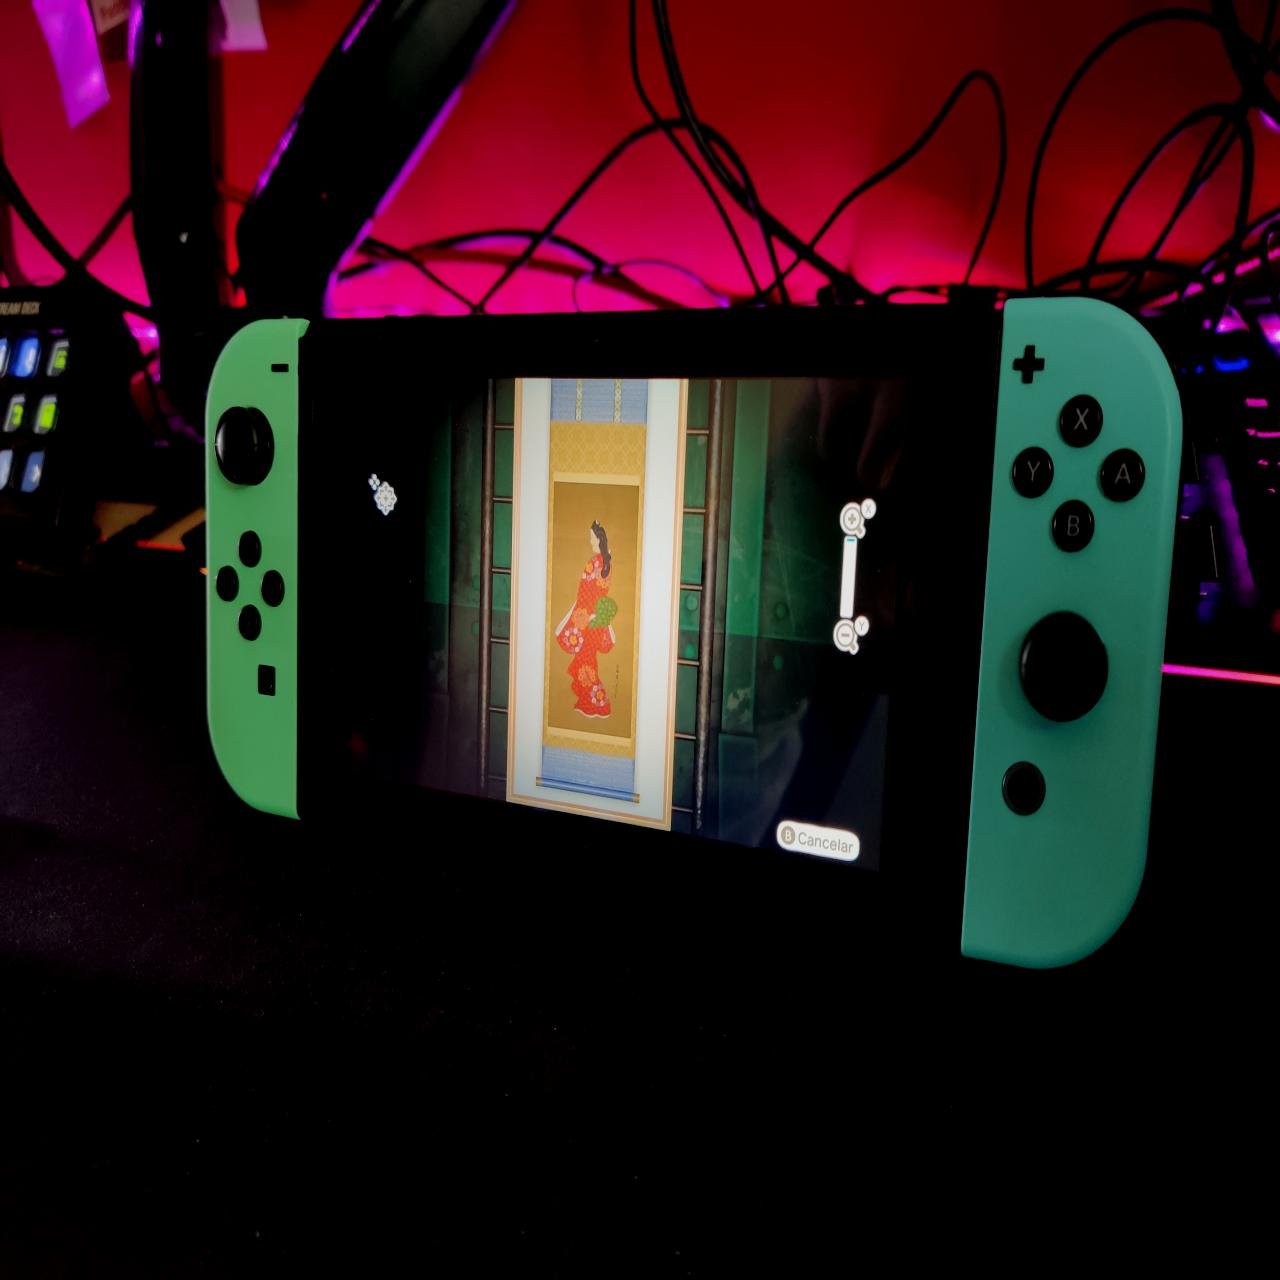MikaeriFake: (556, 482, 636, 738)
